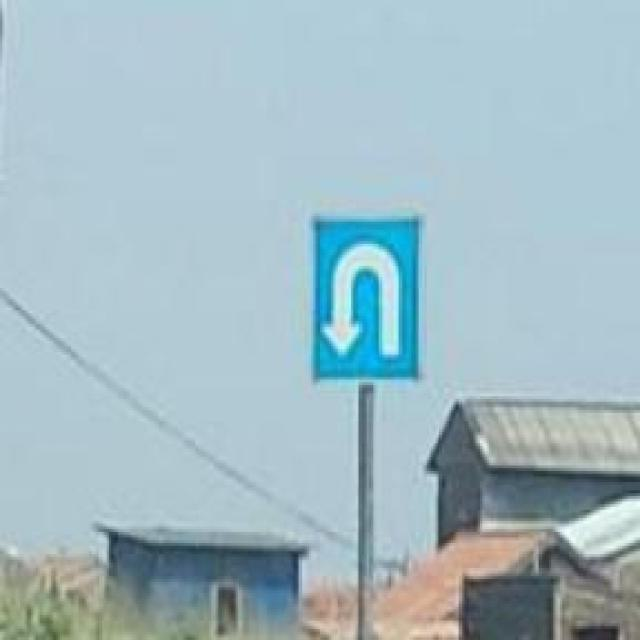U-turn: (313, 217, 419, 377)
